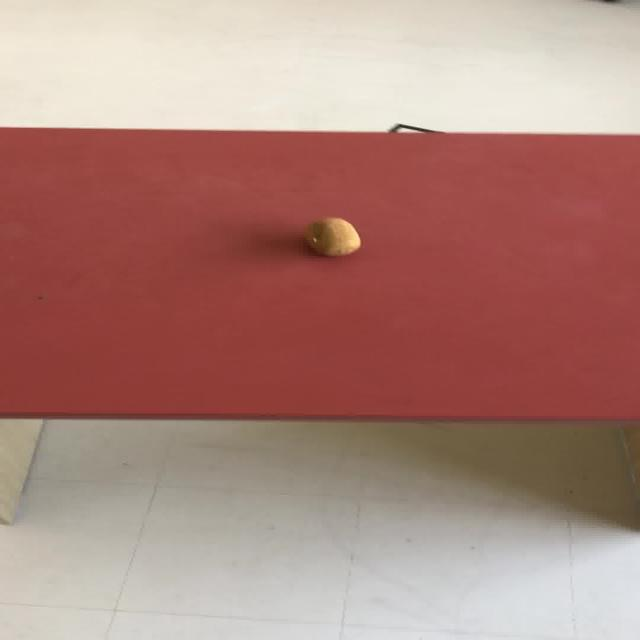kiwi: (304, 216, 361, 257)
